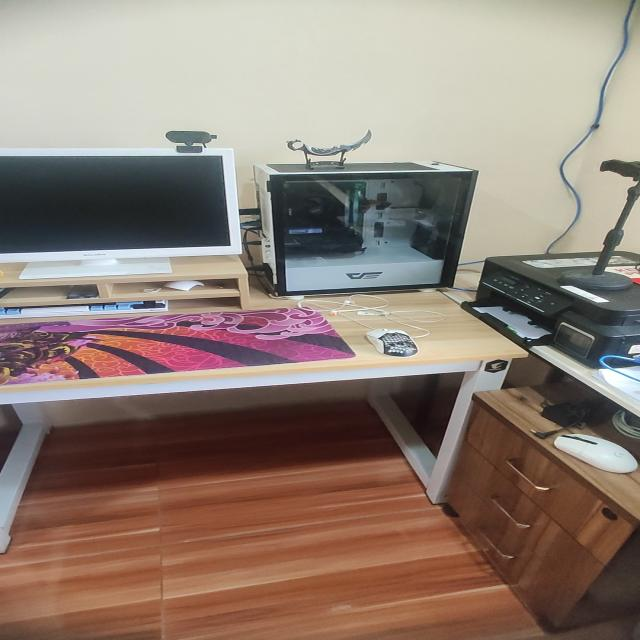table: (0, 275, 527, 553)
